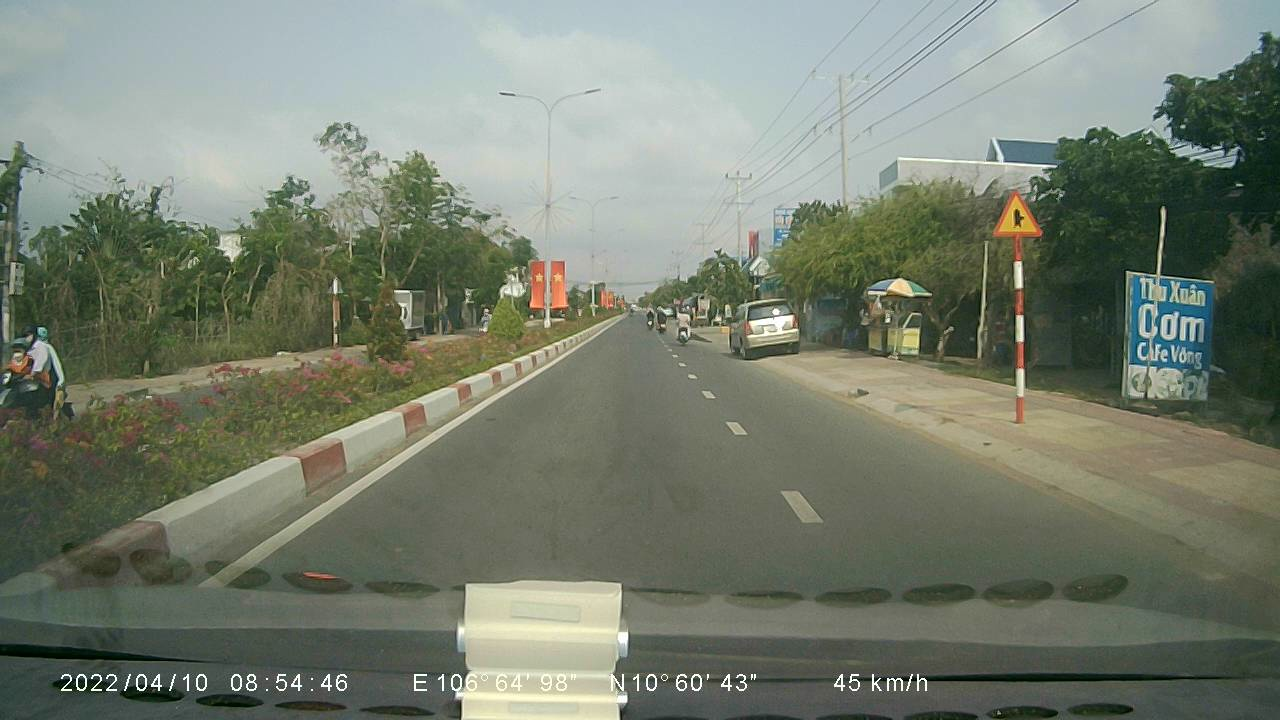Giao nhau voi duong khong uu tien: (989, 187, 1045, 237)
